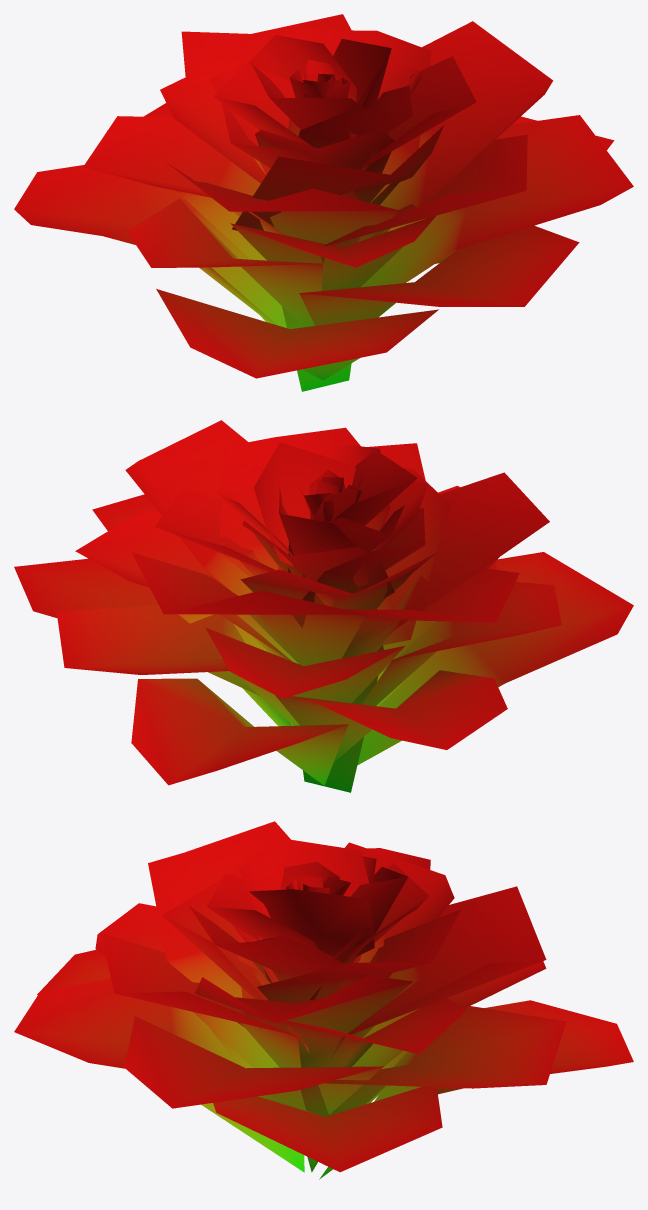
The model's file is Purple Ornamental Kale_LOD5_Var3_ugdieawja.fbx.
3 renders of one model, top to bottom at view 1: azimuth 30°, elevation 25°; view 2: azimuth 150°, elevation 25°; view 3: azimuth 270°, elevation 25°, orthographic. The views are drawn at different scales.
Visible parts, largest first — view 1: _14fb_Var3_LOD5; view 2: _14fb_Var3_LOD5; view 3: _14fb_Var3_LOD5.
Part boxes in pixels (x1,y1,x2,y2): _14fb_Var3_LOD5: (14, 14, 633, 391); _14fb_Var3_LOD5: (14, 420, 633, 792); _14fb_Var3_LOD5: (14, 821, 633, 1179).
Bounding box in the file's own units: 52.42 × 30.48 × 53.12.
